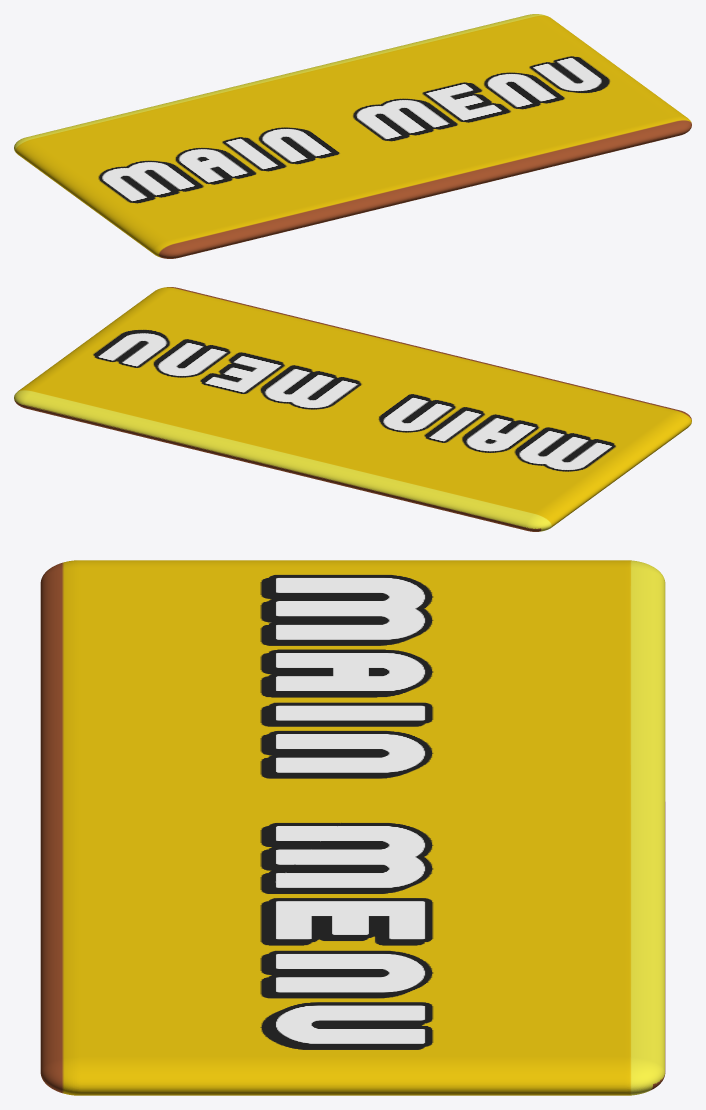
File: button_mainMenu.dae
3 renders of one model, top to bottom at view 1: azimuth 30°, elevation 25°; view 2: azimuth 150°, elevation 25°; view 3: azimuth 270°, elevation 25°, orthographic. The views are drawn at different scales.
Visible parts, largest first — view 1: Plane; view 2: Plane; view 3: Plane.
Boxes of the visible parts, bbox=[...] form: Plane: bbox=[14, 14, 691, 258]; Plane: bbox=[14, 287, 691, 531]; Plane: bbox=[40, 560, 665, 1095].
Bounding box in the file's own units: 7.9 × 3.98 × 0.2189.
Materials: 1 (1 with a texture image).
